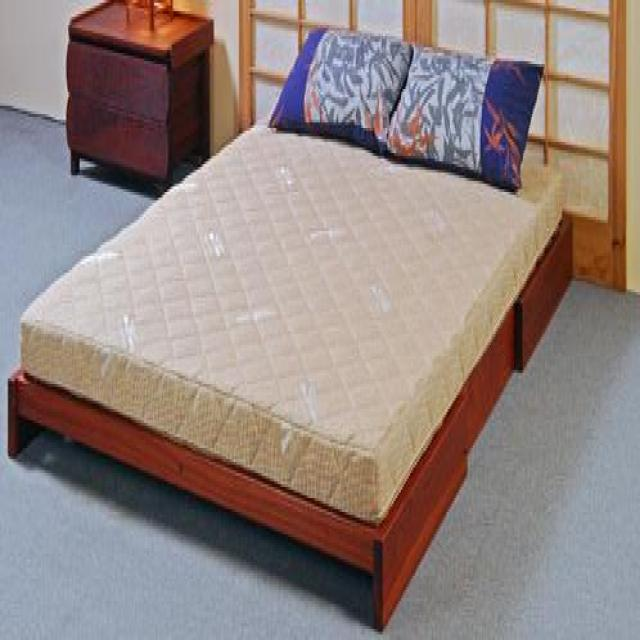bed: (8, 32, 576, 639)
